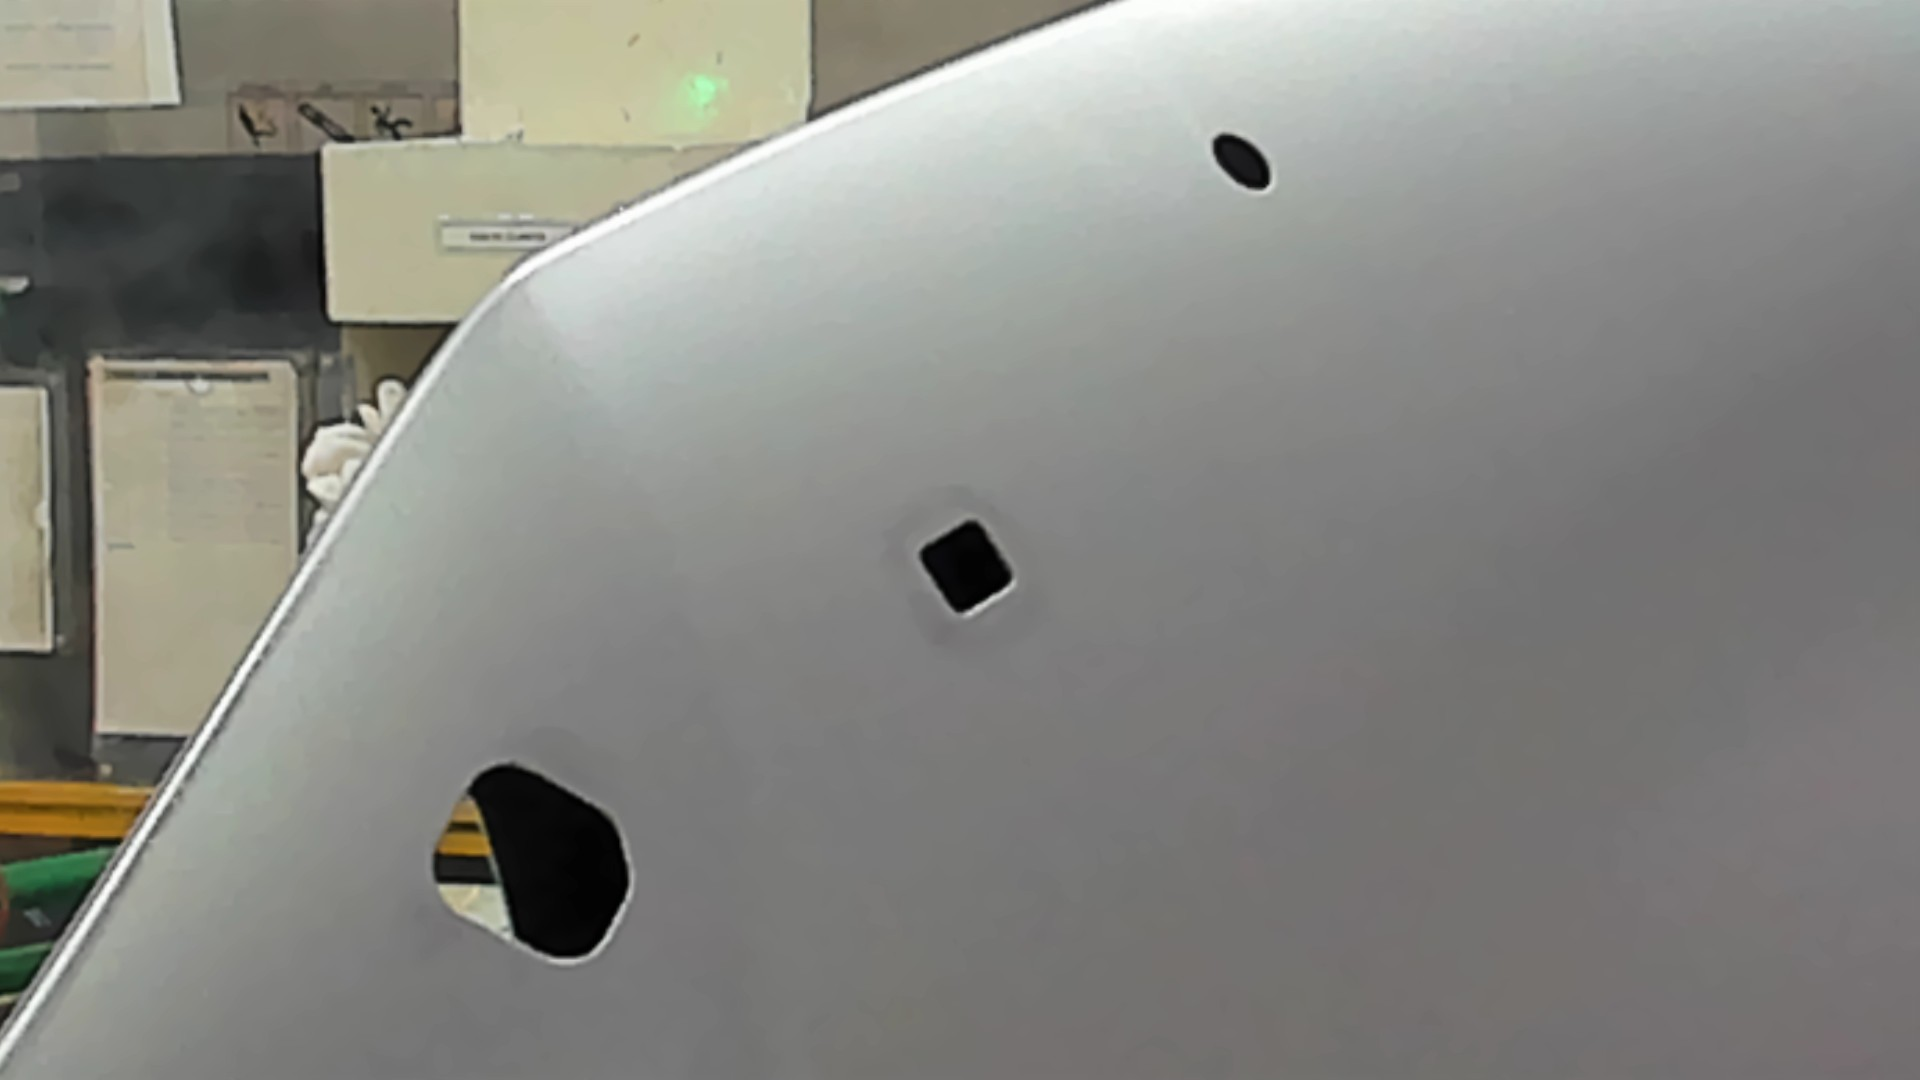chico: (1197, 115, 1287, 220)
grande: (414, 742, 659, 1001)
mediano: (911, 497, 1047, 641)
